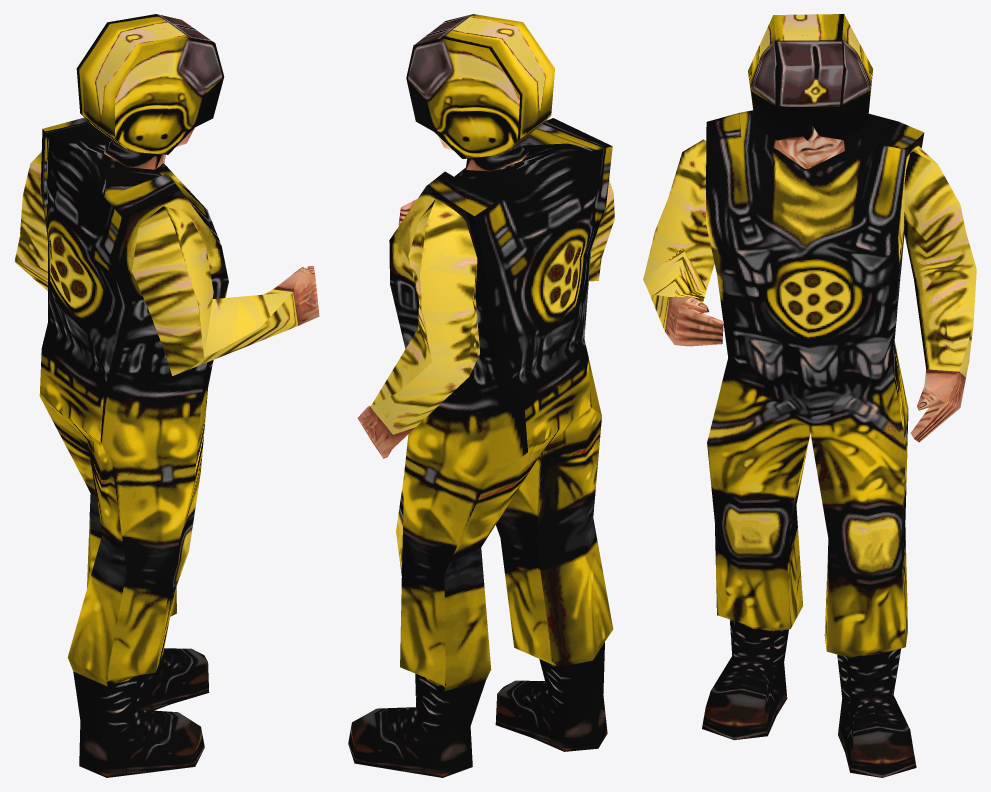
File: hvyweapon2_yellow.glb
3 views of the same model, side by side, from view 1: azimuth 30°, elevation 25°; view 2: azimuth 150°, elevation 25°; view 3: azimuth 270°, elevation 25° (orthographic). The views are drawn at different scales.
Visible parts, largest first — view 1: hvyweapon2; view 2: hvyweapon2; view 3: hvyweapon2.
Boxes of the visible parts, box(x1,y1,x2,y2) form: hvyweapon2: box(14, 14, 319, 777); hvyweapon2: box(348, 14, 614, 777); hvyweapon2: box(643, 14, 976, 777).
Size of the model in its own units: 25.59 by 77.83 by 33.23.
2 materials, 2 textured.
